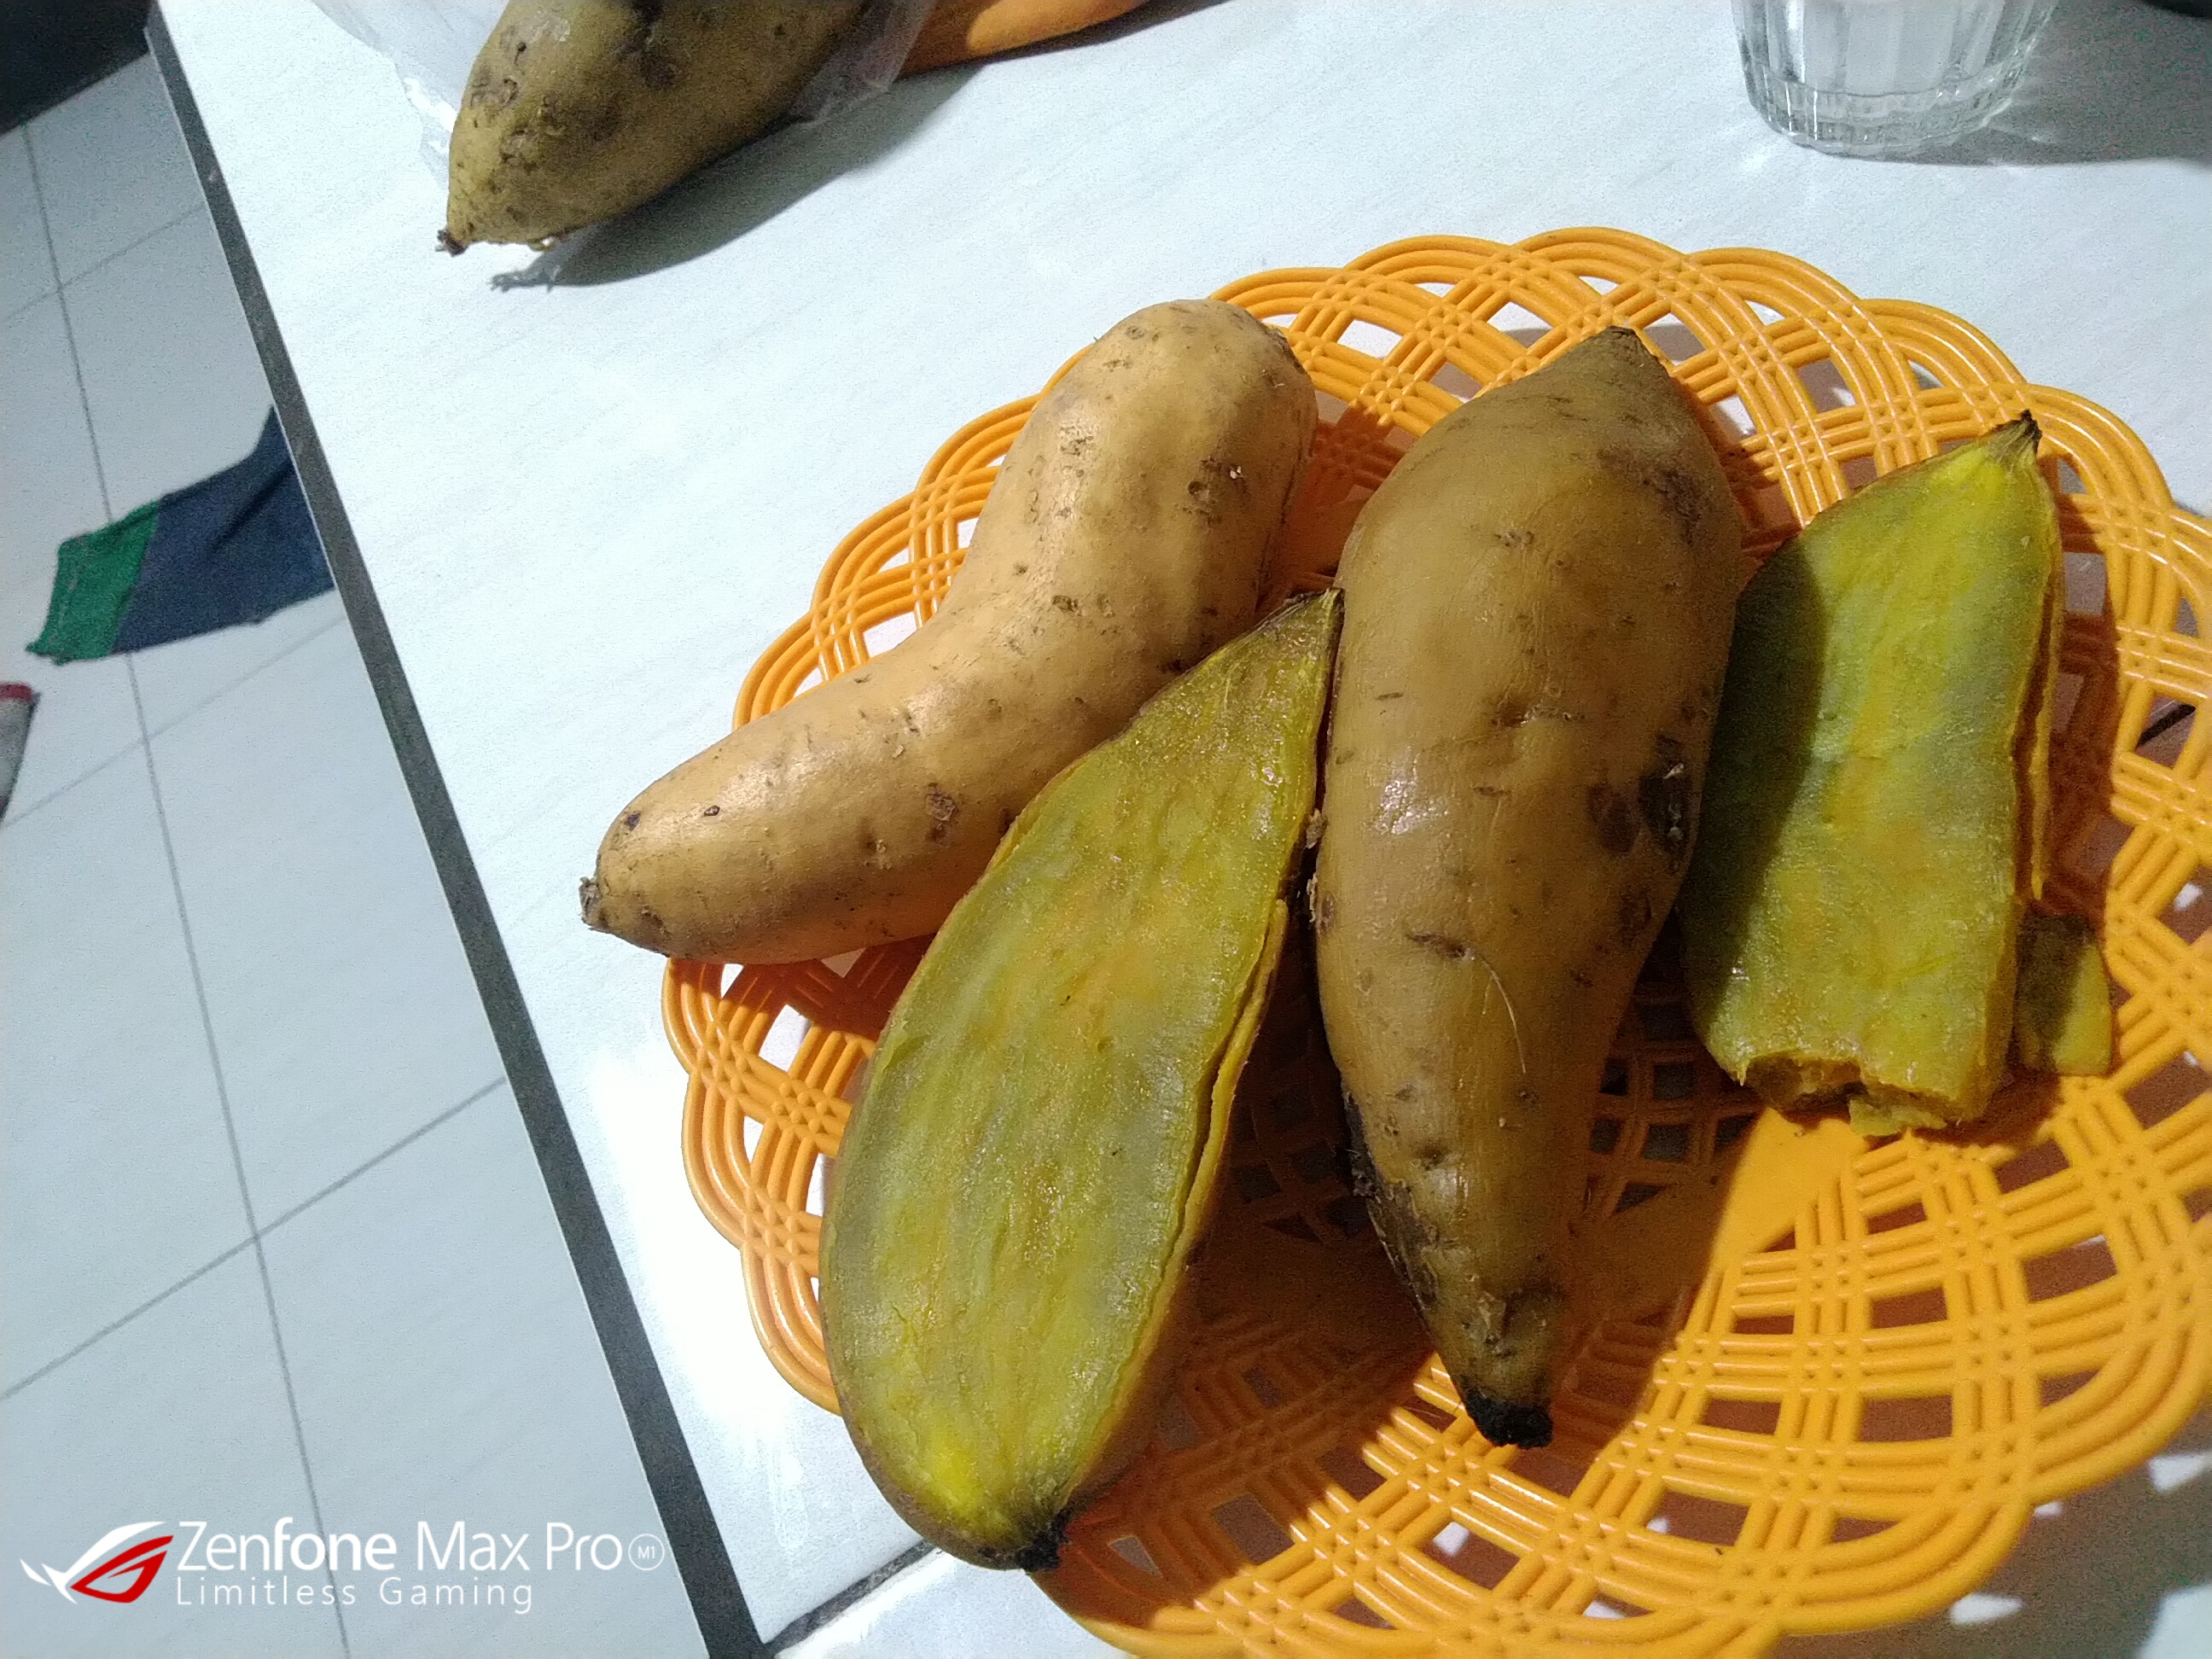ubi cilembu: (820, 566, 1355, 1581), (568, 296, 1339, 985), (1303, 307, 1750, 1492), (1686, 397, 2135, 1124)
